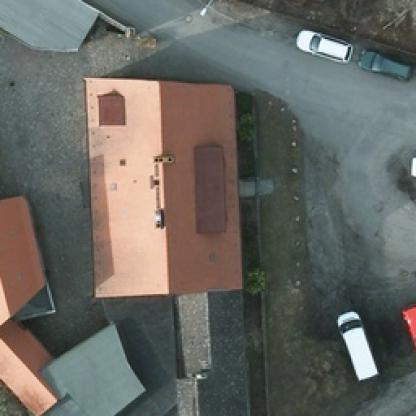car: (294, 26, 351, 62), (354, 44, 413, 78)
van: (332, 310, 374, 382)
